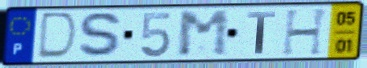5: (139, 10, 173, 59)
D: (35, 11, 81, 62)
H: (280, 7, 333, 57)
M: (177, 9, 231, 59)
S: (76, 10, 126, 60)
T: (245, 10, 277, 56)
